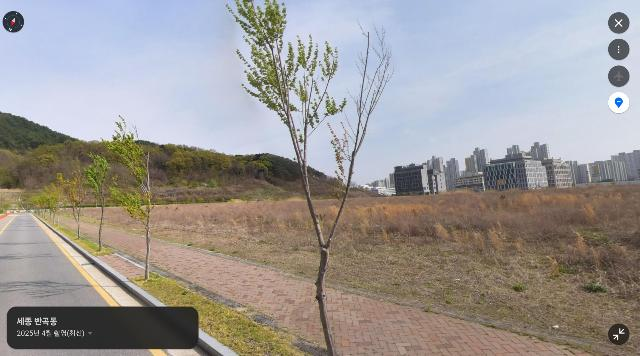other: (225, 0, 395, 356), (105, 114, 157, 282), (84, 152, 111, 252), (55, 171, 85, 240), (44, 190, 61, 228), (34, 191, 52, 221)
